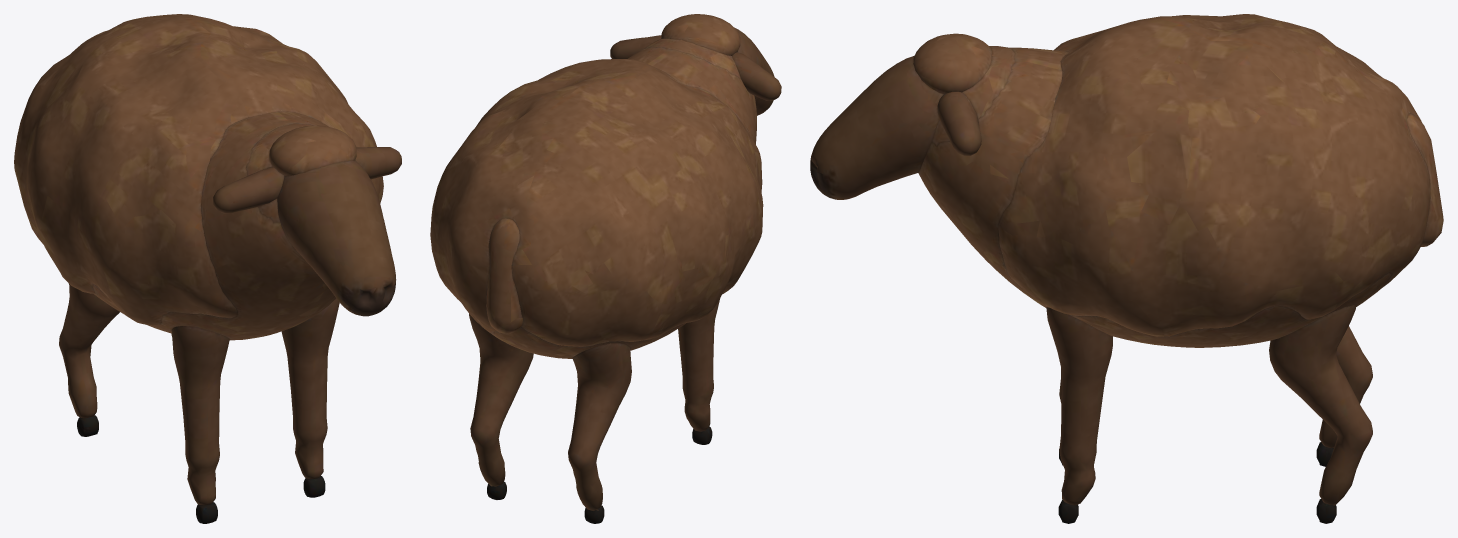
The model's file is animal_shetland_sheep.glb.
The picture shows the model from 3 angles, left to right: view 1: azimuth 30°, elevation 25°; view 2: azimuth 150°, elevation 25°; view 3: azimuth 270°, elevation 25°; orthographic projection. The views are drawn at different scales.
Parts seen in each view (by area): view 1: animal_shetland_sheep, head, leg0, leg1, leg2; view 2: animal_shetland_sheep, leg2, leg3, head, leg0, tail; view 3: animal_shetland_sheep, head, leg3, leg1, leg2, tail.
Boxes of the visible parts, left/top/right/bottom form: animal_shetland_sheep: left=14, top=14, right=383, bottom=340; head: left=213, top=125, right=401, bottom=316; leg0: left=171, top=326, right=229, bottom=523; leg1: left=281, top=298, right=339, bottom=497; leg2: left=59, top=283, right=119, bottom=436; animal_shetland_sheep: left=430, top=38, right=763, bottom=358; leg2: left=568, top=343, right=631, bottom=523; leg3: left=469, top=313, right=533, bottom=499; head: left=610, top=14, right=781, bottom=115; leg0: left=678, top=298, right=720, bottom=444; tail: left=486, top=218, right=522, bottom=333; animal_shetland_sheep: left=918, top=14, right=1430, bottom=347; head: left=810, top=33, right=992, bottom=199; leg3: left=1269, top=305, right=1372, bottom=523; leg1: left=1046, top=307, right=1112, bottom=523; leg2: left=1316, top=326, right=1372, bottom=466; tail: left=1407, top=114, right=1443, bottom=246.
Size of the model in its own units: 0.262 by 0.3605 by 0.4446.
Materials: 1 (1 with a texture image).
